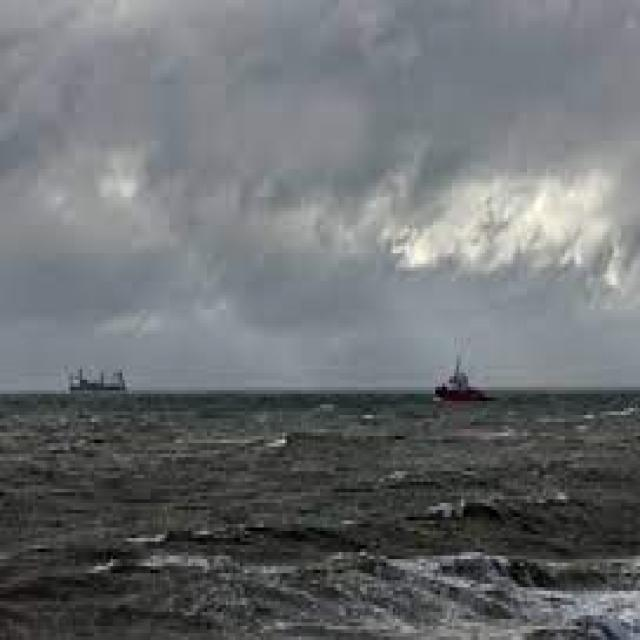fishing boat: (424, 351, 496, 406), (61, 345, 139, 395)
